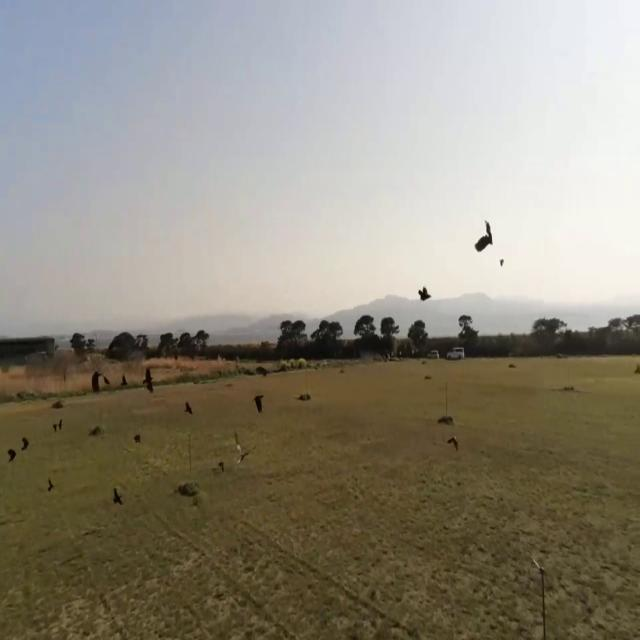bird: (474, 211, 493, 260), (237, 437, 250, 468), (418, 277, 431, 306), (500, 253, 505, 270)
